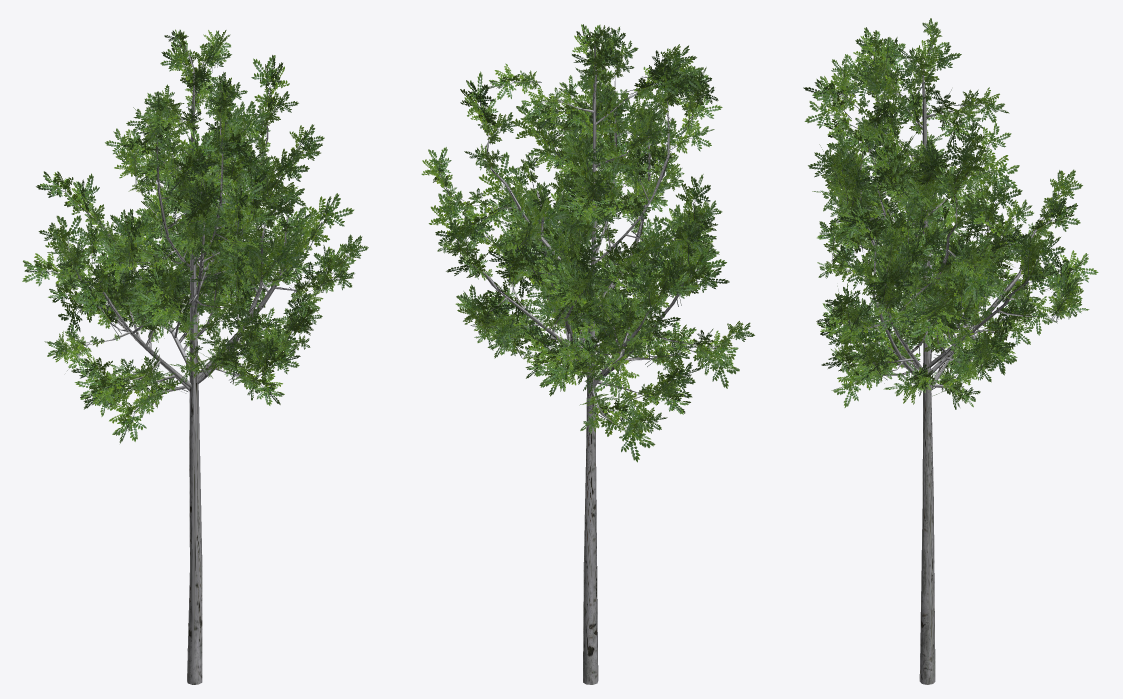
Rendered from shade-c-far.glb.
The picture shows the model from 3 angles, left to right: view 1: azimuth 30°, elevation 25°; view 2: azimuth 150°, elevation 25°; view 3: azimuth 270°, elevation 25°; orthographic projection.
Parts seen in each view (by area): view 1: leaves, bark; view 2: leaves, bark; view 3: leaves, bark.
Boxes of the visible parts, <box> form: leaves: <box>22,29,368,443</box>; bark: <box>69,46,323,684</box>; leaves: <box>421,24,754,462</box>; bark: <box>463,44,695,684</box>; leaves: <box>803,18,1098,409</box>; bark: <box>842,44,1044,684</box>.
Size of the model in its own units: 0.4956 by 0.9881 by 0.4315.
Materials: 2 (2 with a texture image).
